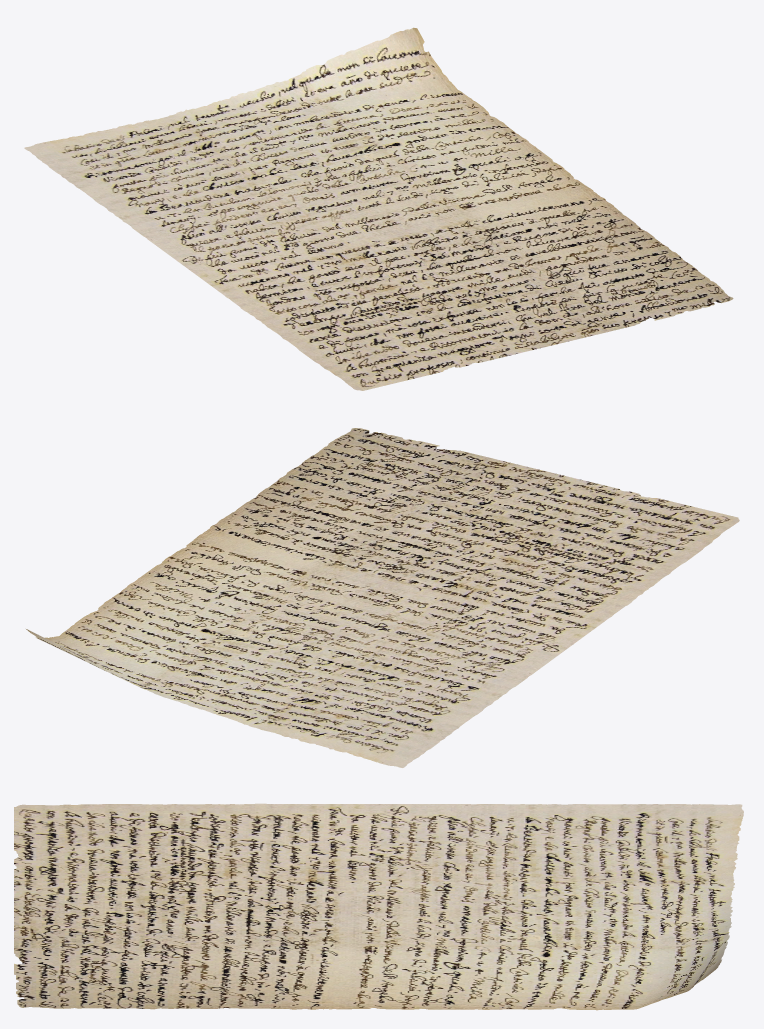
File: paper2.fbx
3 views of the same model, one above another, from view 1: azimuth 30°, elevation 25°; view 2: azimuth 150°, elevation 25°; view 3: azimuth 270°, elevation 25° (orthographic). The views are drawn at different scales.
Visible parts, largest first — view 1: Mesh_Manuscript_02_LOD0; view 2: Mesh_Manuscript_02_LOD0; view 3: Mesh_Manuscript_02_LOD0.
Boxes of the visible parts, <box> form: Mesh_Manuscript_02_LOD0: <box>24,27,733,390</box>; Mesh_Manuscript_02_LOD0: <box>26,428,739,767</box>; Mesh_Manuscript_02_LOD0: <box>14,803,743,1010</box>.
Bounding box in the file's own units: 23.63 × 2.58 × 34.64.
